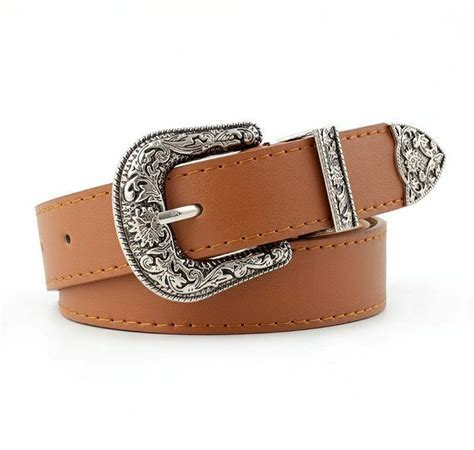cuero: (34, 121, 406, 337)
